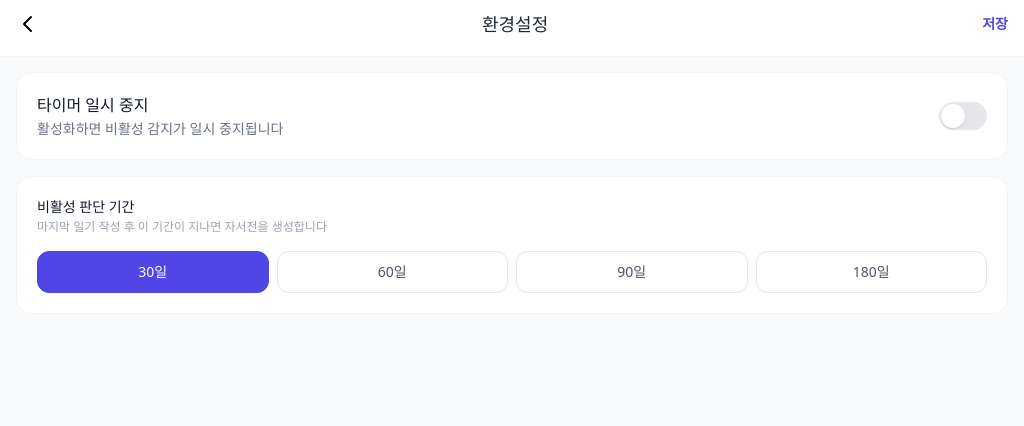
Test: Settings Preferences Flow - Integration Test › WarningBanner - timer_status=PAUSED condition › should show WarningBanner after toggle is turned ON
This screenshot has width=1024, height=426.
# toggle ON
Click the checkbox with test id "timer-pause-toggle": (963, 116) left=939, top=102, right=987, bottom=130
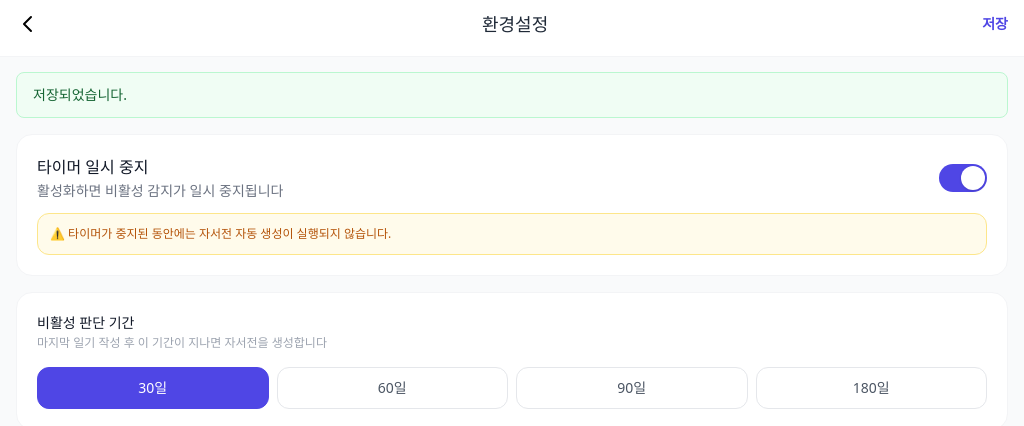
Expected: the message "⚠️ 타이머가 중지된 동안에는 자서전 자동 생성이 실행되지 않습니다." is shown, left=37, top=213, right=987, bottom=255
